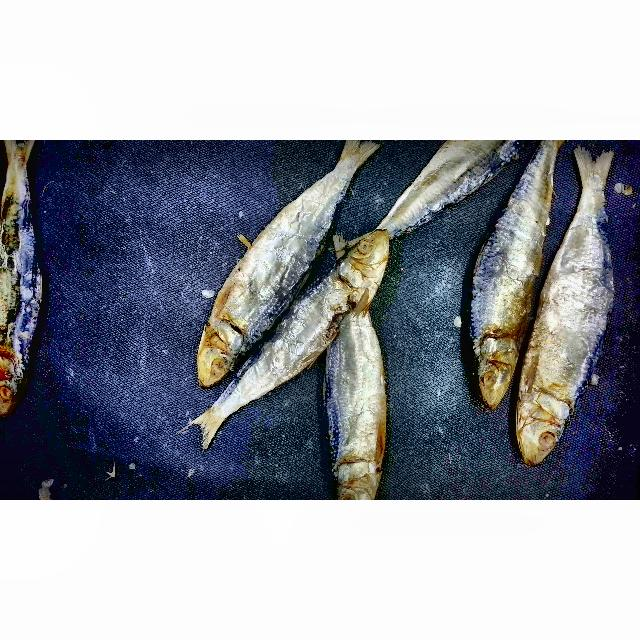Grade_C_Body: (205, 176, 336, 327), (517, 227, 620, 399), (462, 170, 556, 333), (246, 277, 361, 400), (383, 140, 511, 236), (324, 314, 388, 463)
Grade_C_Head: (190, 303, 261, 390), (508, 383, 578, 466), (328, 225, 391, 304), (465, 329, 525, 411)
Grade_C_Tail: (567, 142, 622, 216), (326, 140, 388, 182)
